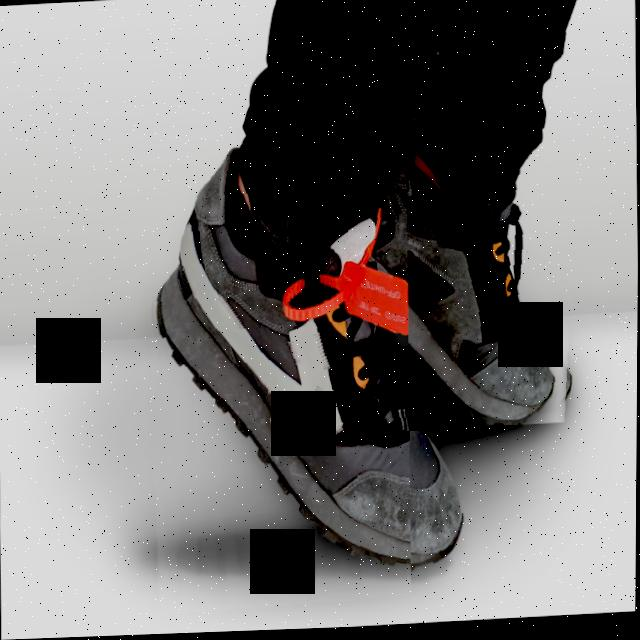shoe: (138, 138, 414, 617), (391, 121, 586, 434)
